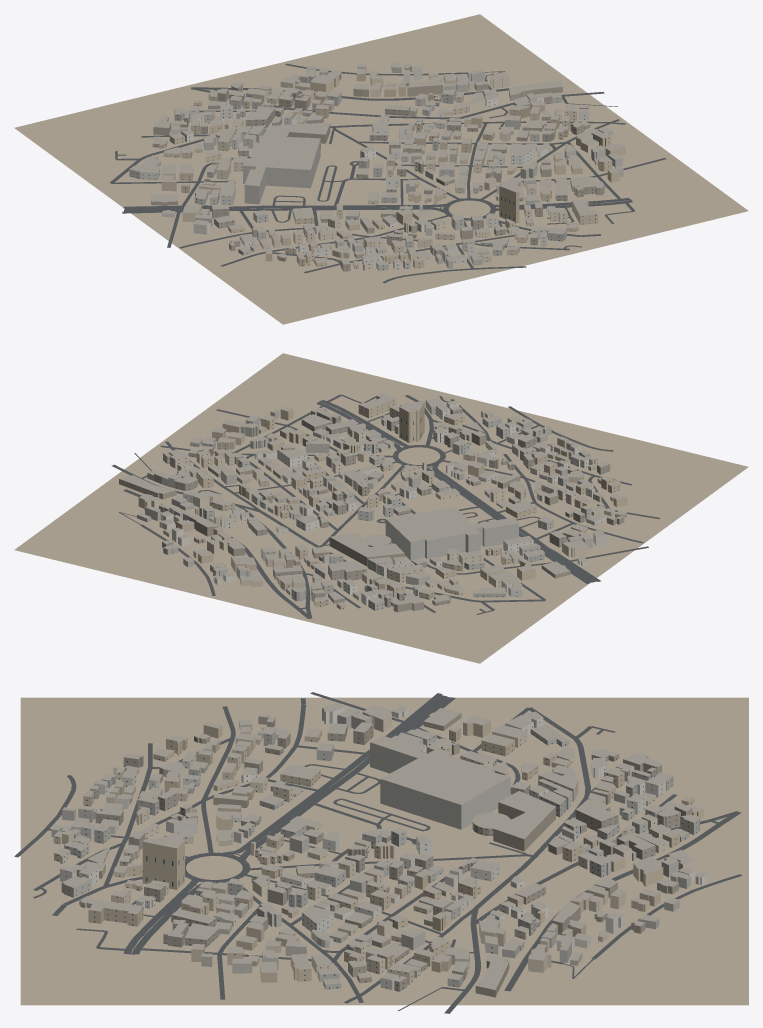
Rendered from Amman-Central-District.glb.
3 views of the same model, one above another, from view 1: azimuth 30°, elevation 25°; view 2: azimuth 150°, elevation 25°; view 3: azimuth 270°, elevation 25° (orthographic). The views are drawn at different scales.
Visible parts, largest first — view 1: Amman terrain base, Real OSM building footprints with facade detail, Road ribbons from OSM centerlines, Facade window glass and frames; view 2: Amman terrain base, Real OSM building footprints with facade detail, Road ribbons from OSM centerlines, Facade window glass and frames; view 3: Amman terrain base, Real OSM building footprints with facade detail, Road ribbons from OSM centerlines, Facade window glass and frames.
Boxes of the visible parts, bbox=[...] form: Amman terrain base: bbox=[14, 14, 748, 324]; Real OSM building footprints with facade detail: bbox=[129, 62, 625, 271]; Road ribbons from OSM centerlines: bbox=[109, 63, 665, 283]; Facade window glass and frames: bbox=[131, 85, 609, 270]; Amman terrain base: bbox=[14, 353, 748, 663]; Real OSM building footprints with facade detail: bbox=[119, 393, 627, 612]; Road ribbons from OSM centerlines: bbox=[111, 394, 659, 618]; Facade window glass and frames: bbox=[150, 397, 625, 609]; Amman terrain base: bbox=[20, 697, 748, 1005]; Real OSM building footprints with facade detail: bbox=[51, 703, 708, 997]; Road ribbons from OSM centerlines: bbox=[14, 692, 742, 1013]; Facade window glass and frames: bbox=[56, 722, 699, 990].
Size of the model in its own units: 795 by 48.12 by 767.
